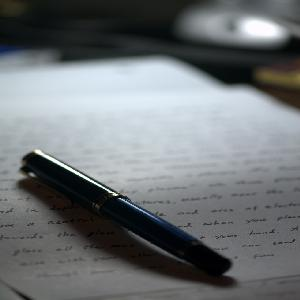pen: (13, 147, 233, 282)
